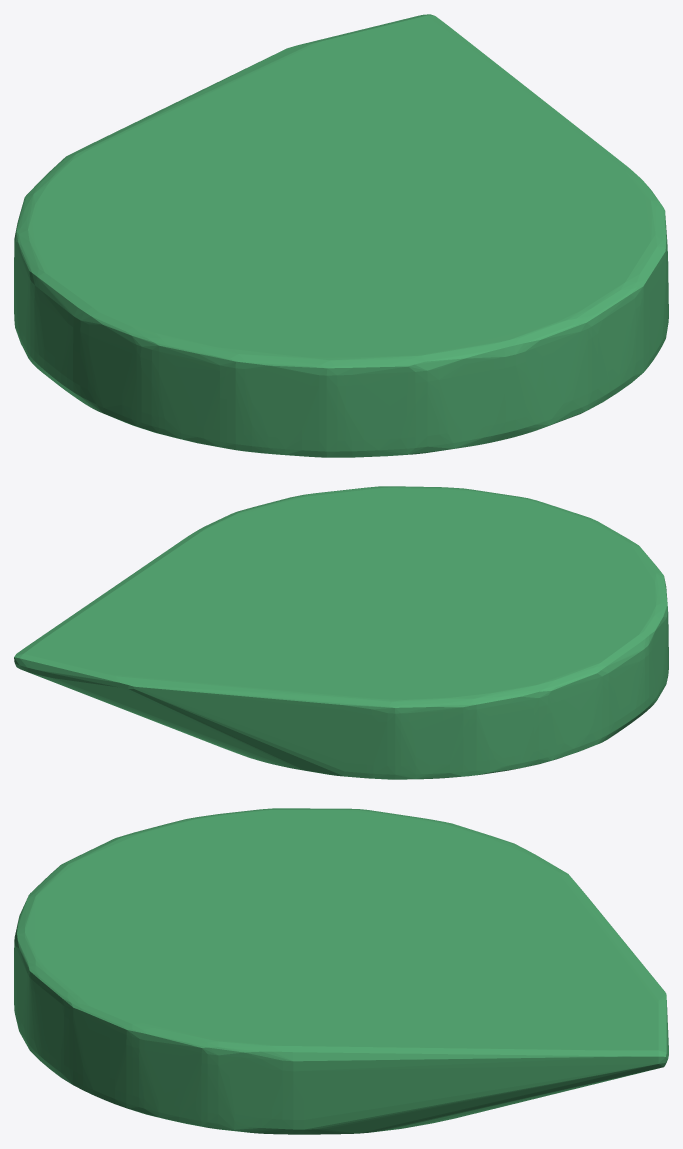
The model's file is left_hip_pitch_link_part_3.obj.
The picture shows the model from 3 angles, top to bottom: view 1: azimuth 30°, elevation 25°; view 2: azimuth 150°, elevation 25°; view 3: azimuth 270°, elevation 25°; orthographic projection. The views are drawn at different scales.
Bounding box in the file's own units: 0.1098 × 0.0177 × 0.1212.
